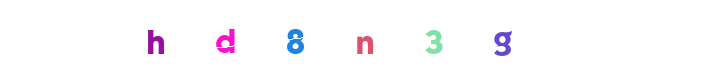3: (322, 0, 402, 80)
8: (292, 0, 372, 80)
D: (255, 0, 335, 80)
G: (385, 0, 465, 80)
H: (187, 0, 267, 80)
N: (315, 0, 395, 80)
